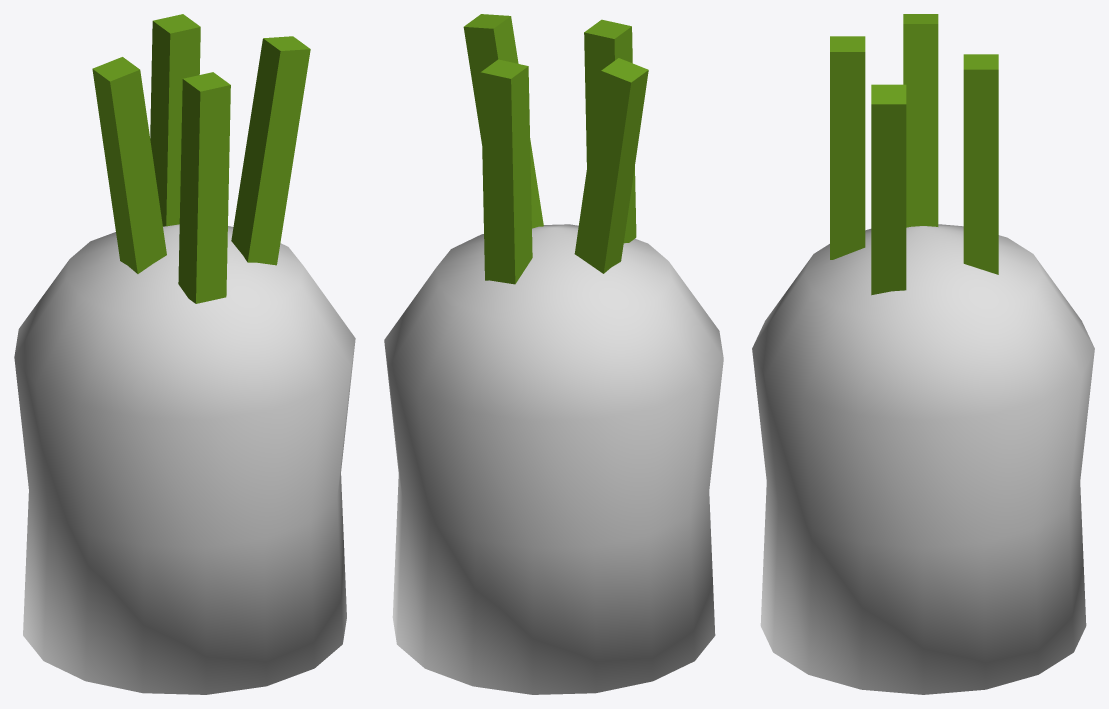
The model's file is carrot-semi1.fbx.
3 renders of one model, left to right at view 1: azimuth 30°, elevation 25°; view 2: azimuth 150°, elevation 25°; view 3: azimuth 270°, elevation 25°, orthographic.
Parts seen in each view (by area): view 1: Carot-semi1; view 2: Carot-semi1; view 3: Carot-semi1.
Part boxes in pixels (<box>): Carot-semi1: <box>14,14,355,694</box>; Carot-semi1: <box>384,14,723,694</box>; Carot-semi1: <box>752,14,1094,694</box>.
Size of the model in its own units: 61.83 by 114 by 61.83.
